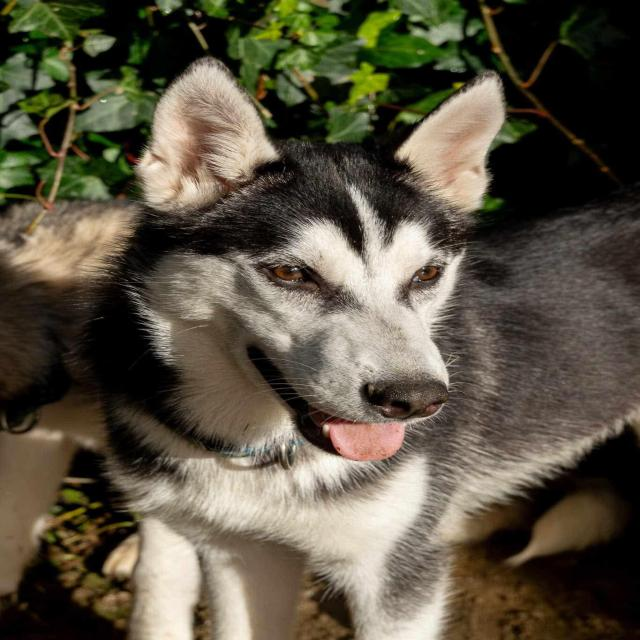siberian_husky_dog: (115, 46, 518, 481)
